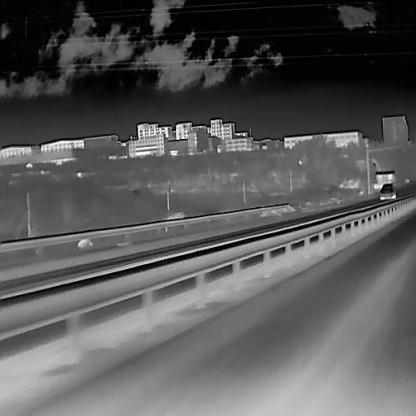car: (379, 182, 396, 200)
